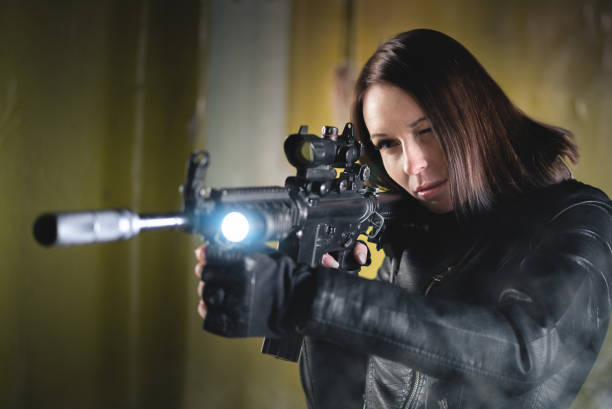gun: (33, 123, 405, 362)
